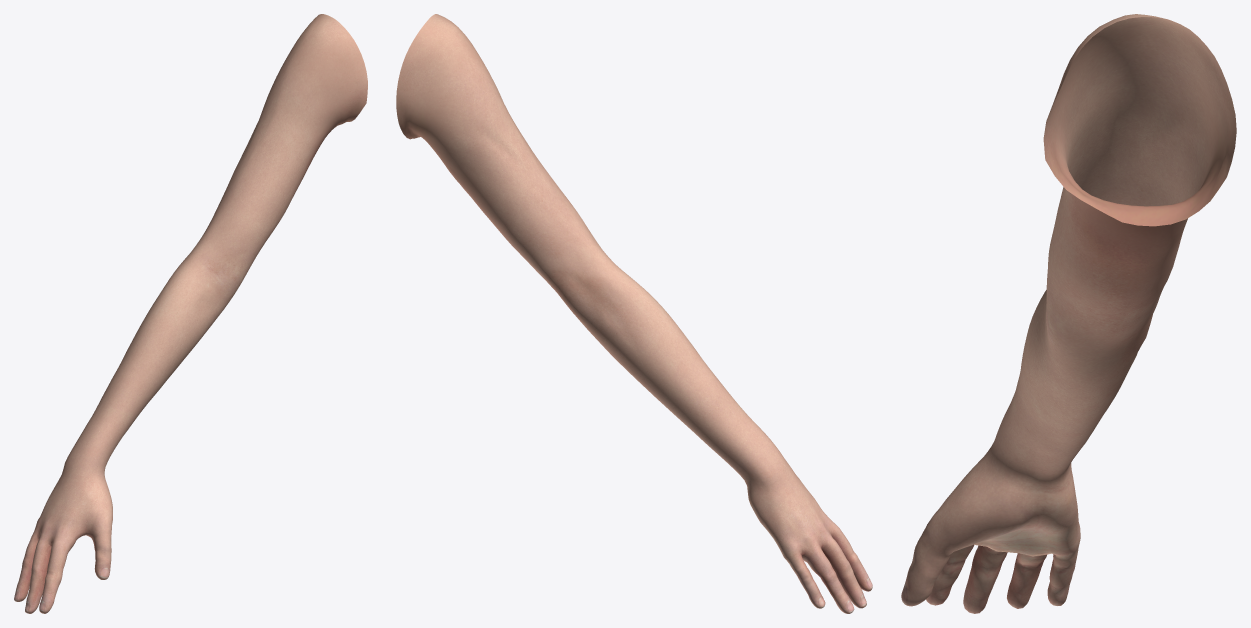
The model's file is BrazoDerecho.obj.
3 renders of one model, left to right at view 1: azimuth 30°, elevation 25°; view 2: azimuth 150°, elevation 25°; view 3: azimuth 270°, elevation 25°, orthographic. The views are drawn at different scales.
Visible parts, largest first — view 1: BrazoDerecho_body.004; view 2: BrazoDerecho_body.004; view 3: BrazoDerecho_body.004.
Part boxes in pixels (x1,y1,x2,y2): BrazoDerecho_body.004: (14, 14, 367, 613); BrazoDerecho_body.004: (396, 14, 872, 613); BrazoDerecho_body.004: (901, 14, 1236, 613).
Size of the model in its own units: 0.4703 by 0.5963 by 0.1974.
